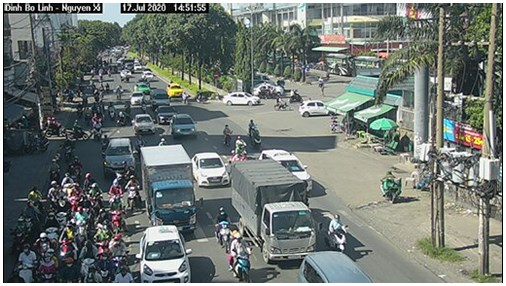xe_hoi: (139, 225, 193, 283), (104, 138, 141, 179), (191, 152, 230, 189), (172, 113, 198, 141), (298, 98, 335, 117), (223, 91, 262, 107), (134, 113, 158, 137), (156, 105, 178, 127), (165, 82, 184, 98)
xe_khach: (150, 87, 170, 109)
xe_may: (227, 231, 253, 282), (106, 234, 132, 271), (324, 209, 347, 250), (213, 205, 232, 251), (380, 168, 402, 204), (37, 248, 59, 282), (17, 243, 36, 282), (108, 176, 128, 212), (14, 210, 33, 247), (107, 193, 126, 230), (26, 183, 44, 222), (64, 117, 90, 144), (126, 173, 145, 209), (66, 181, 84, 214), (41, 116, 66, 139), (63, 256, 81, 284), (36, 230, 54, 258), (111, 104, 132, 128), (83, 259, 102, 284), (45, 182, 64, 207), (85, 115, 104, 140), (45, 209, 59, 242), (65, 153, 82, 179), (271, 92, 291, 114), (219, 122, 234, 151), (46, 157, 62, 181), (115, 265, 133, 283), (88, 183, 100, 210), (246, 119, 258, 138), (251, 132, 264, 148), (87, 103, 98, 117), (157, 132, 165, 146)
xe_tai: (228, 158, 314, 263), (140, 145, 196, 229)
